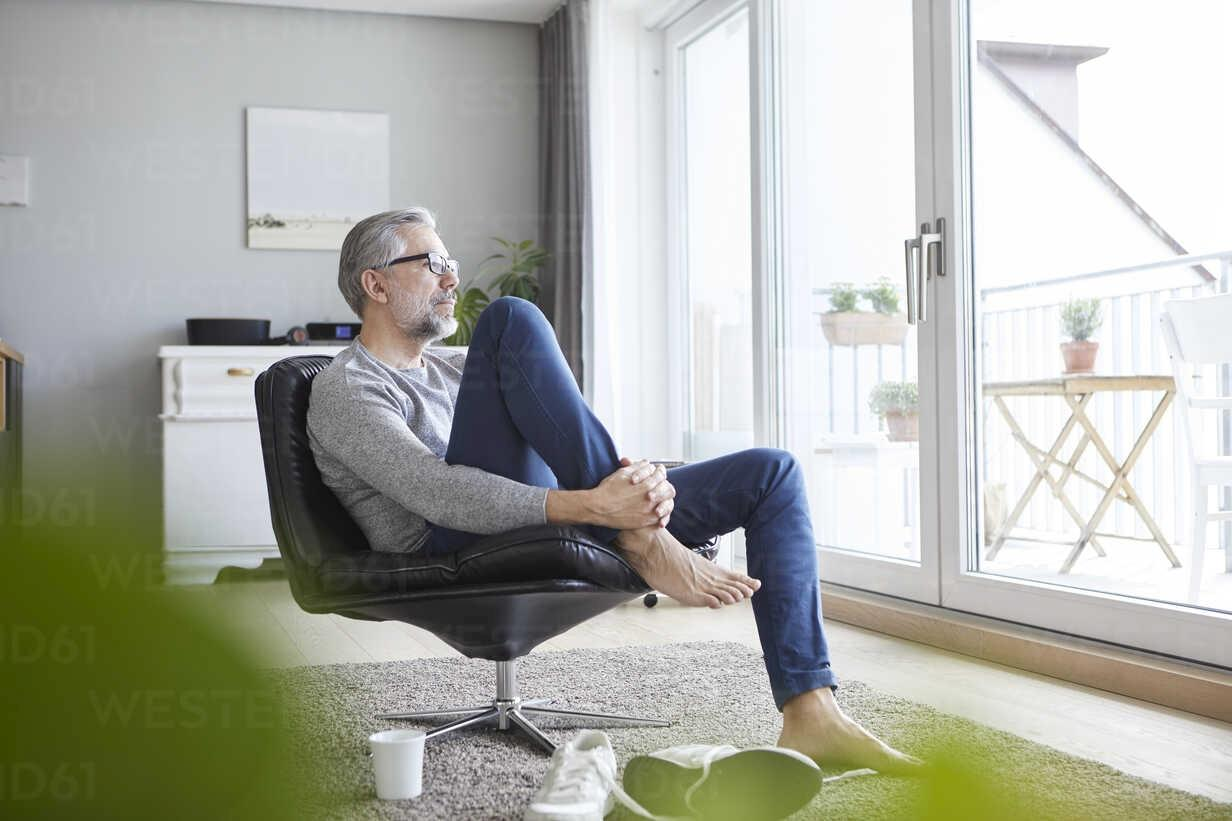FallenBody: (284, 199, 936, 784)
